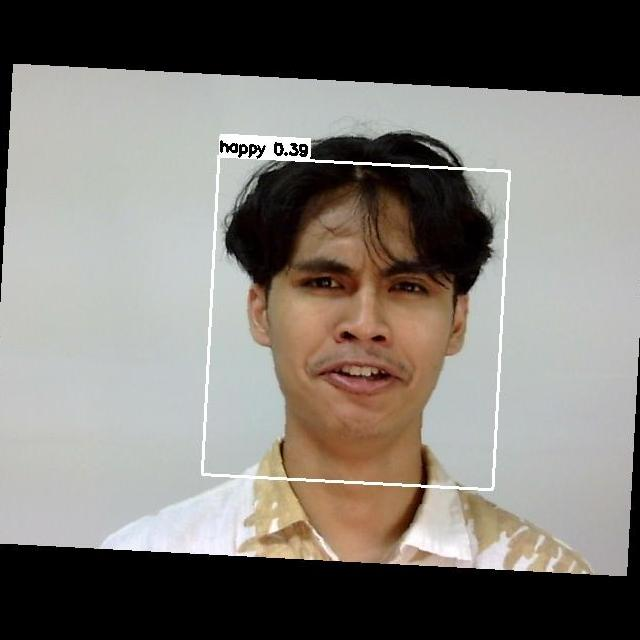Fear: (249, 234, 459, 426)
